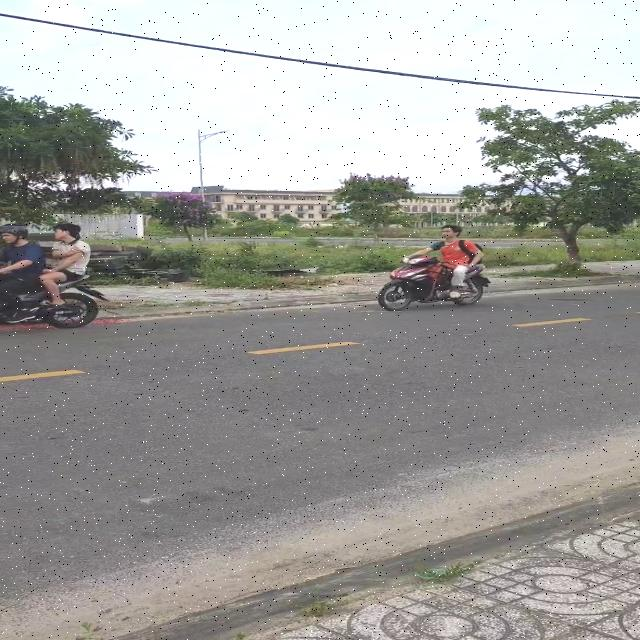helmet: (0, 225, 30, 238)
